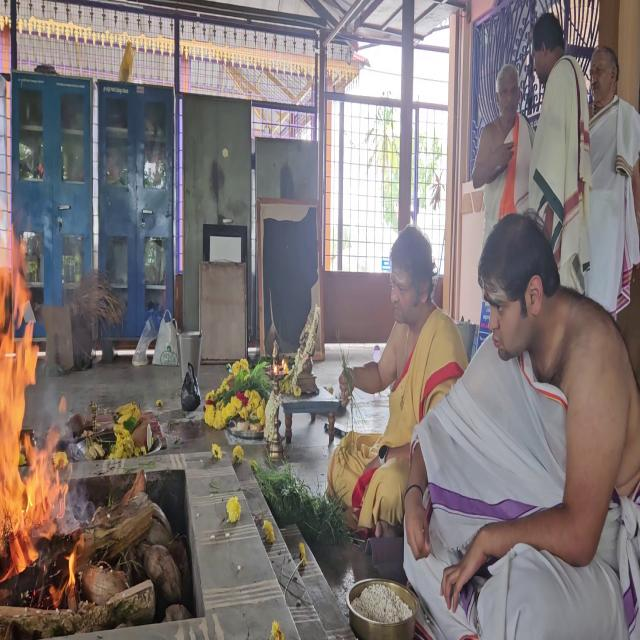fire: (0, 215, 81, 640)
